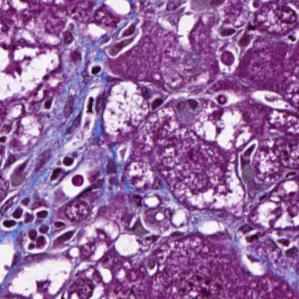ballooning: (100, 76, 153, 142)
